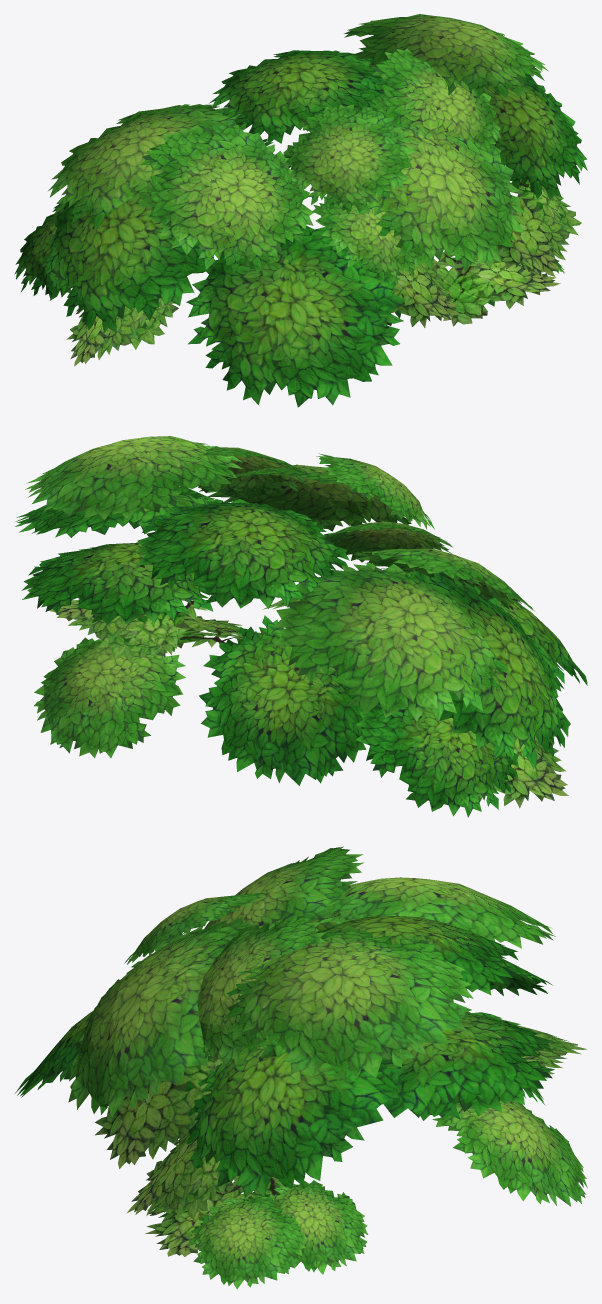
Rendered from imsosadbecause.FBX.
The picture shows the model from 3 angles, top to bottom: view 1: azimuth 30°, elevation 25°; view 2: azimuth 150°, elevation 25°; view 3: azimuth 270°, elevation 25°; orthographic projection. The views are drawn at different scales.
Parts seen in each view (by area): view 1: Line004; view 2: Line004; view 3: Line004.
Boxes of the visible parts, x1=… form: Line004: x1=14, y1=14, x2=587, y2=407; Line004: x1=15, y1=436, x2=587, y2=817; Line004: x1=15, y1=846, x2=587, y2=1289.
Bounding box in the file's own units: 6.18 × 2.79 × 4.93.
